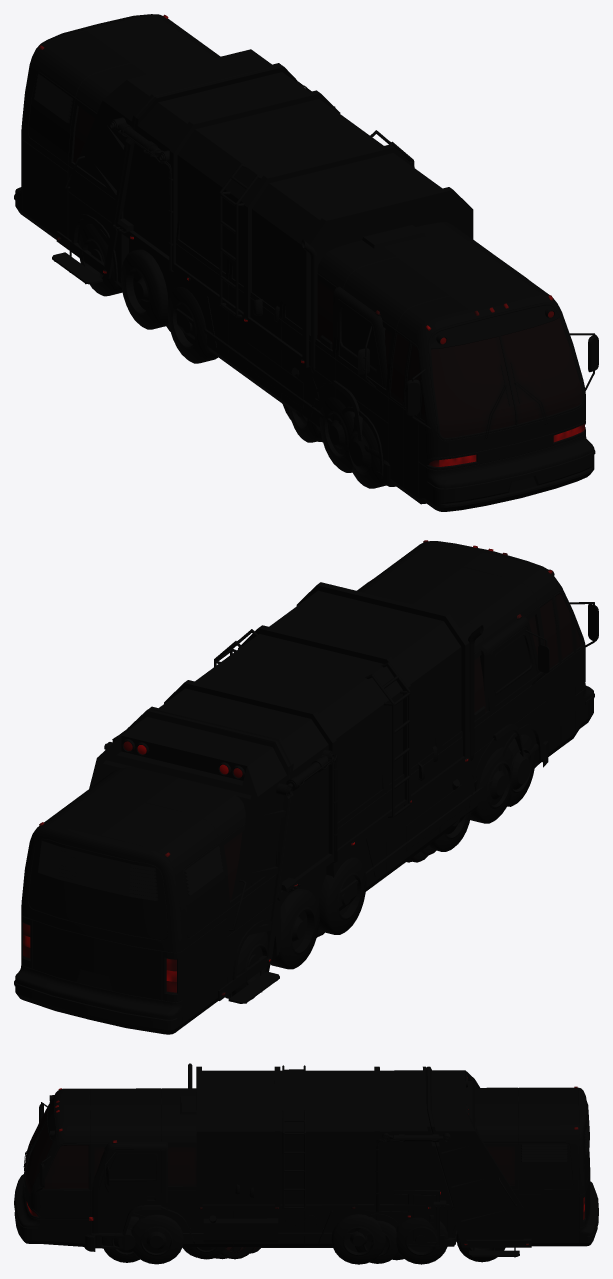
Rendered from traffic.glb.
3 renders of one model, top to bottom at view 1: azimuth 30°, elevation 25°; view 2: azimuth 150°, elevation 25°; view 3: azimuth 270°, elevation 25°, orthographic. The views are drawn at different scales.
Visible parts, largest first — view 1: citybus.001, garbage, service; view 2: citybus.001, garbage, service; view 3: garbage, citybus.001, service, van.
Boxes of the visible parts, box(x1,y1,x2,y2) form: citybus.001: box(14, 14, 598, 511); garbage: box(52, 49, 528, 486); service: box(253, 299, 321, 442); citybus.001: box(14, 540, 598, 1034); garbage: box(89, 579, 549, 1003); service: box(417, 762, 477, 851); garbage: box(84, 1063, 531, 1264); citybus.001: box(14, 1086, 598, 1262); service: box(182, 1187, 456, 1263); van: box(187, 1184, 457, 1260).
Size of the model in its own units: 2.62 by 2.83 by 9.95.
Materials: 14 (14 with a texture image).
